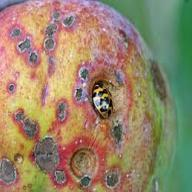apple: (1, 6, 176, 182)
